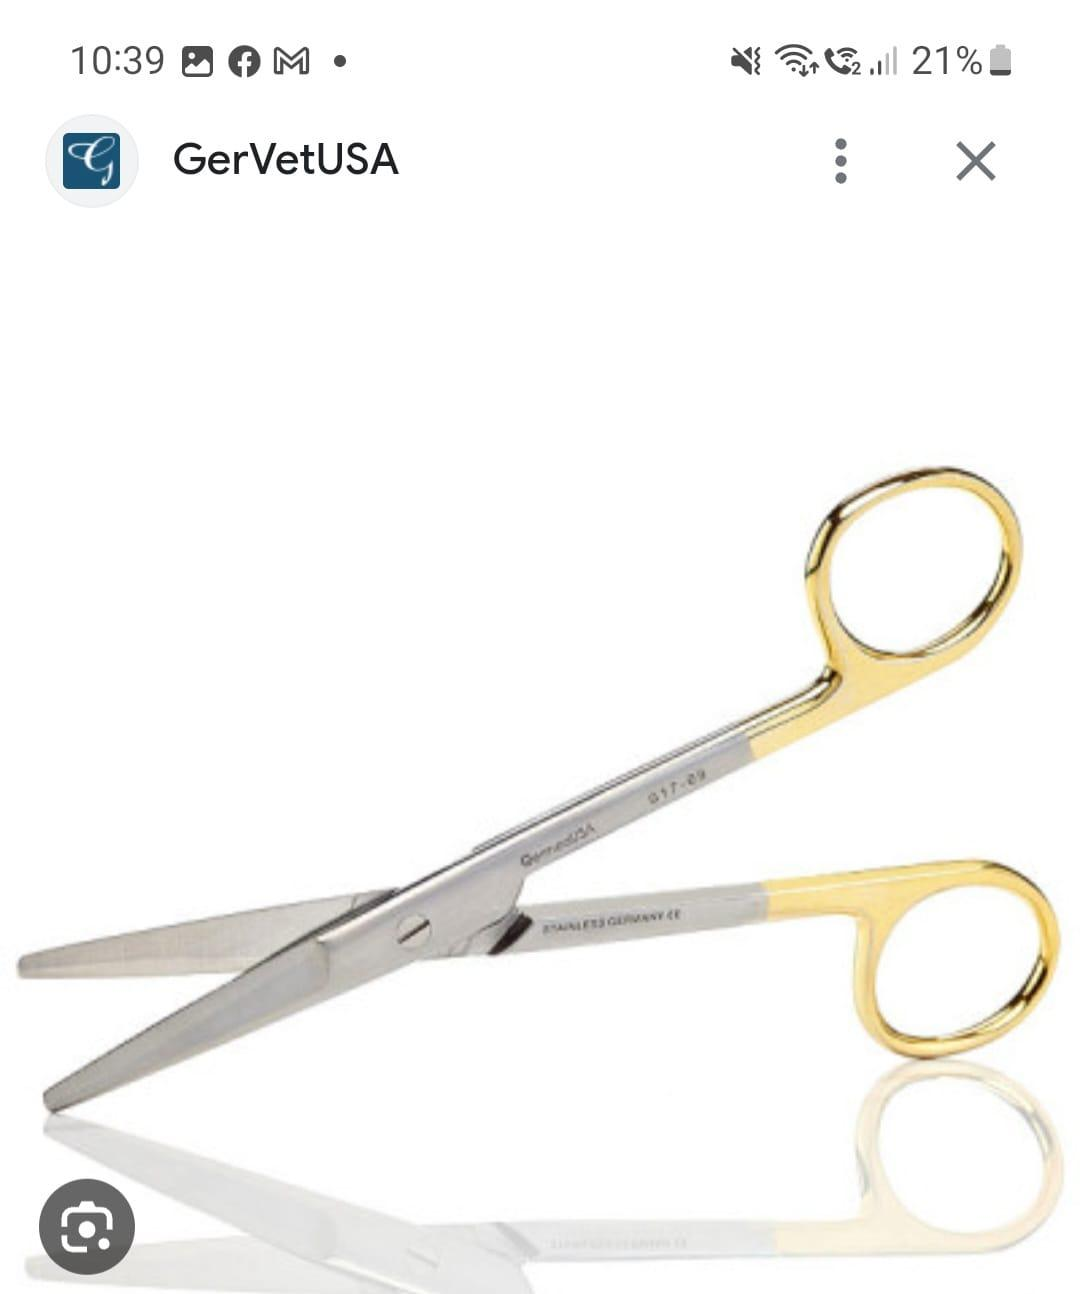Straight Mayo: (6, 430, 1080, 1118)
